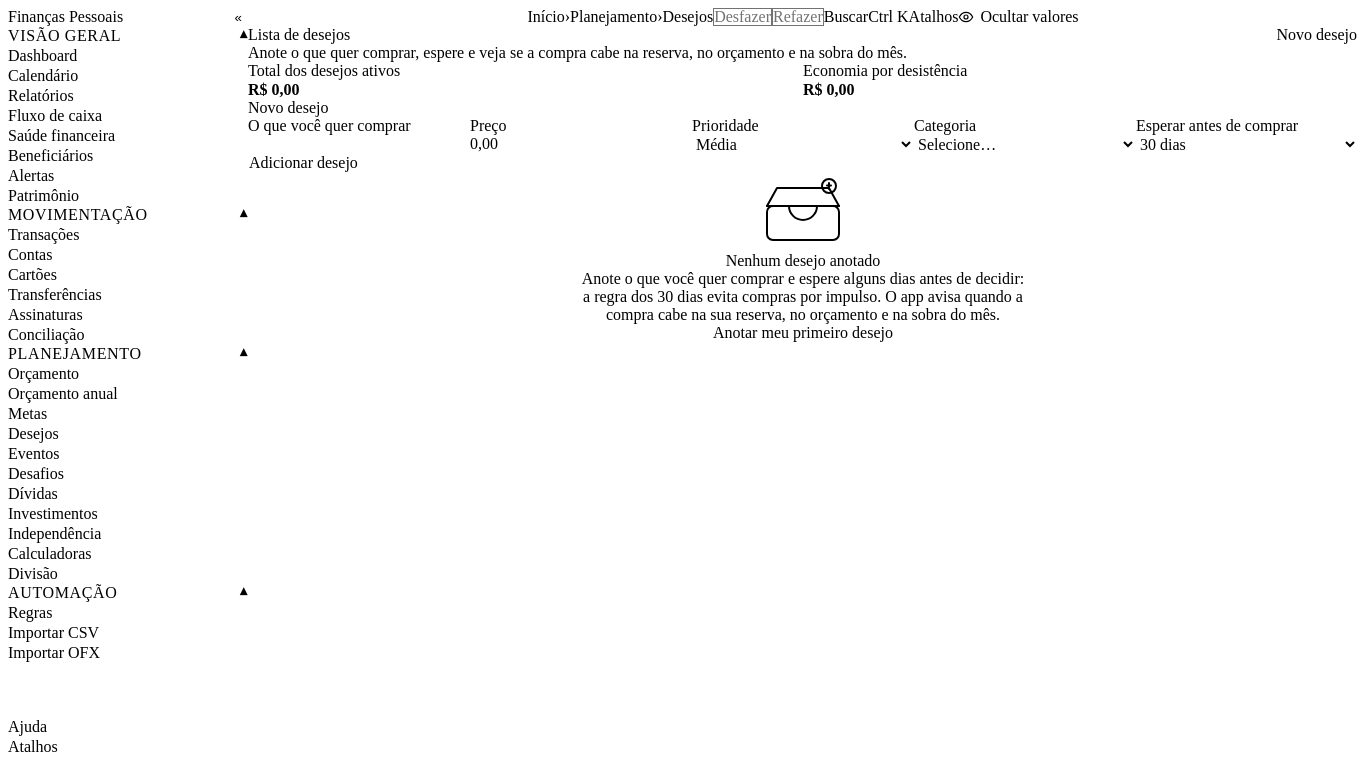
Test: desejos: tela › critérios 1, 4 e 10: anota pela tela, mostra veredito e sobrevive a recarregar
Type "Bicicleta" into the field labelled "O que você quer comprar". click: (359, 144)
box: [248, 135, 470, 153]
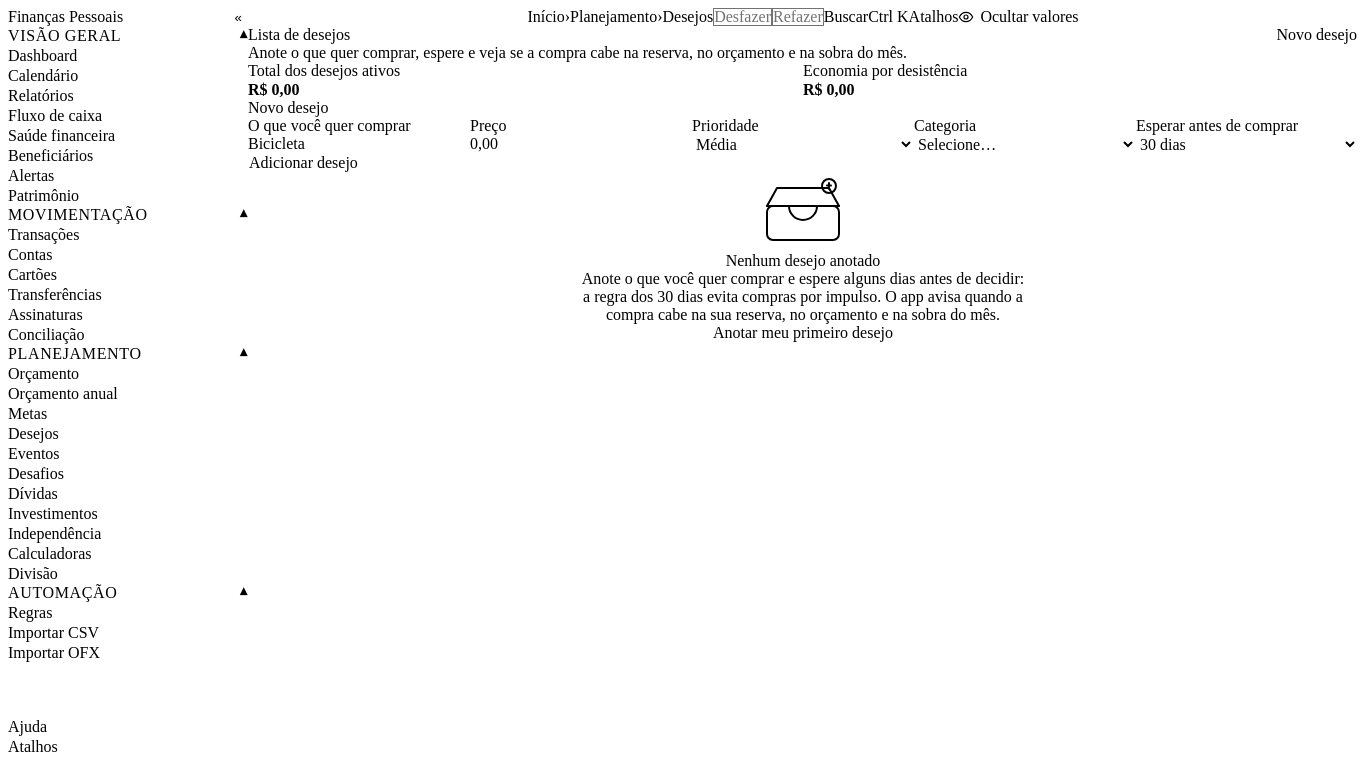
Type "1.200,00" into the field labelled "Preço". click: (581, 144)
box: [470, 135, 692, 153]
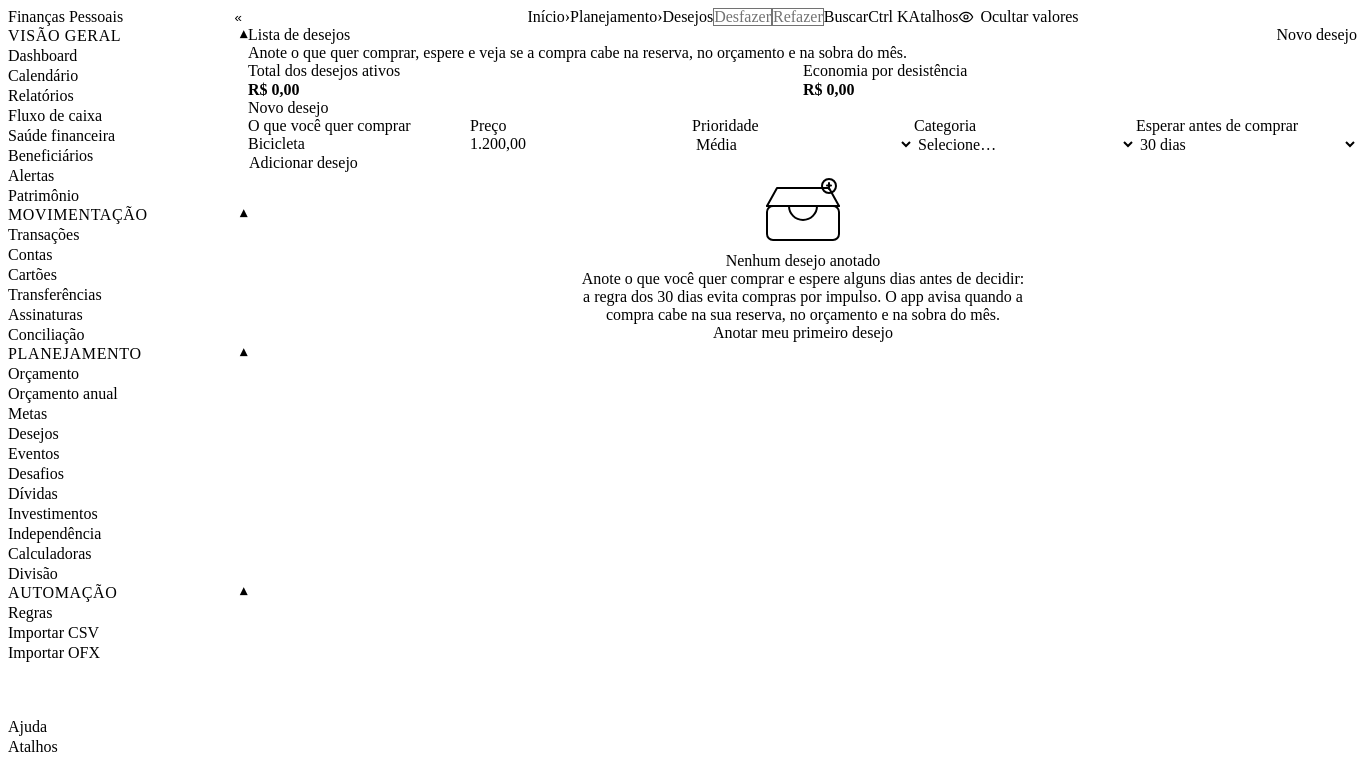
Select "Lazer" in the dropdown labelled "Categoria". click: (1025, 145)
box: [914, 135, 1136, 154]
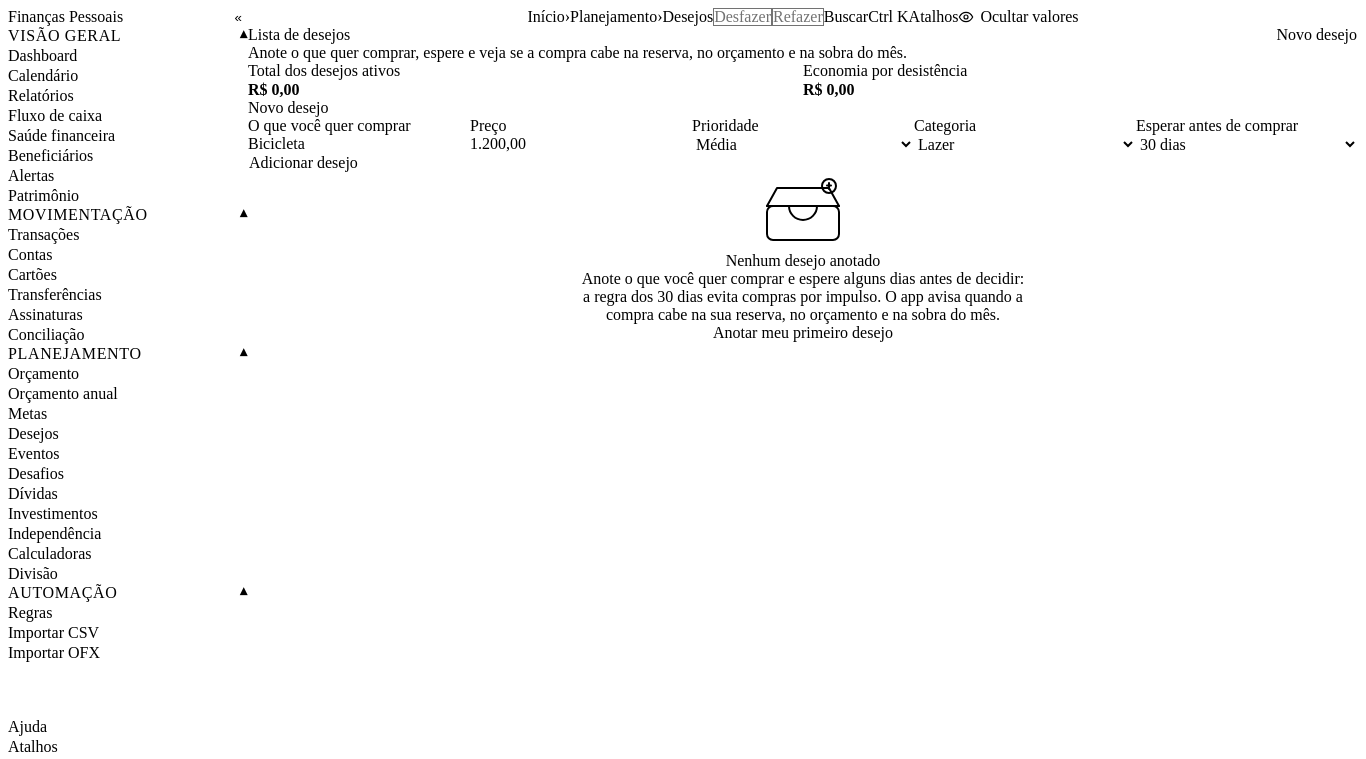
Click the button "Adicionar desejo". click: (303, 163)
box: [248, 154, 359, 172]
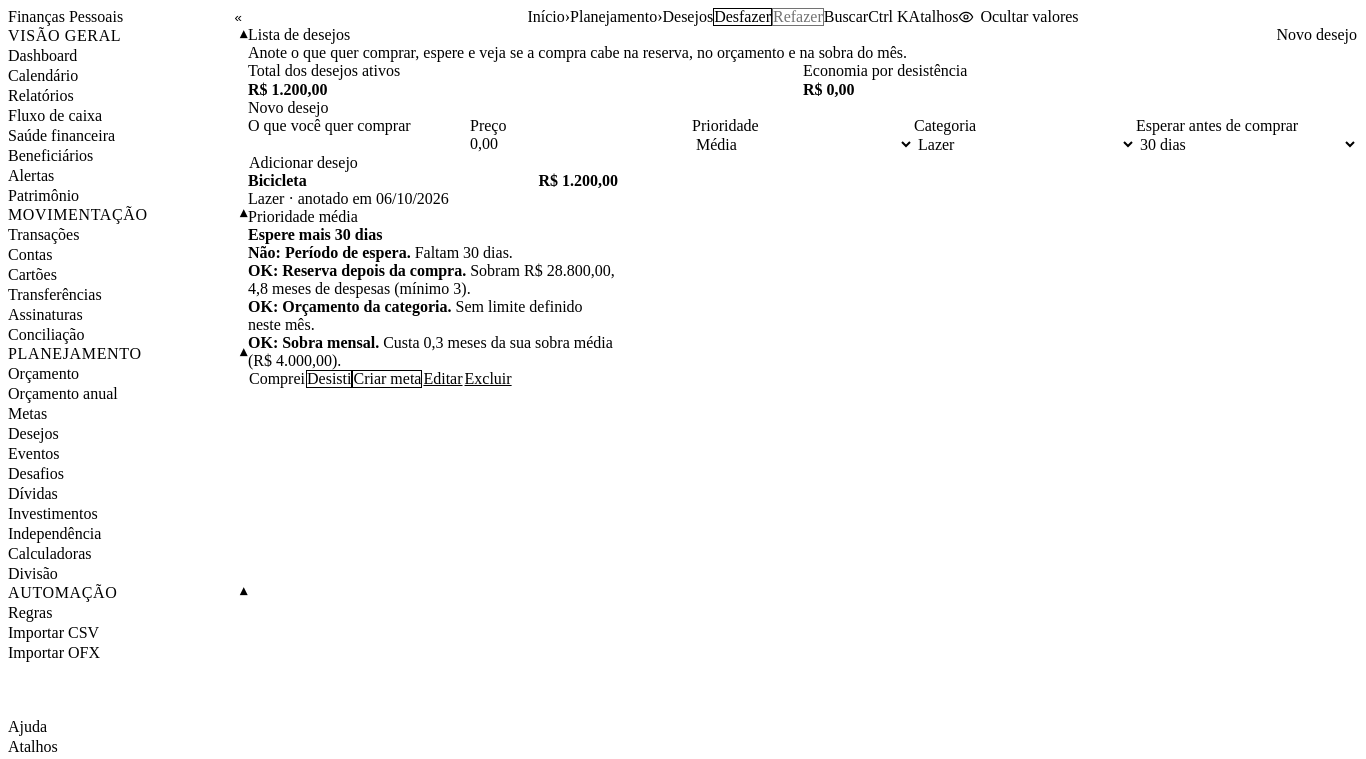
Result: the text "Espere mais 30 dias" is shown at [248, 226, 382, 244]
Result: the text "Não: Período de espera." is shown at [248, 244, 411, 261]
Result: the text with test id "total-ativos" reads "R$ 1.200,00" at [248, 81, 328, 98]
